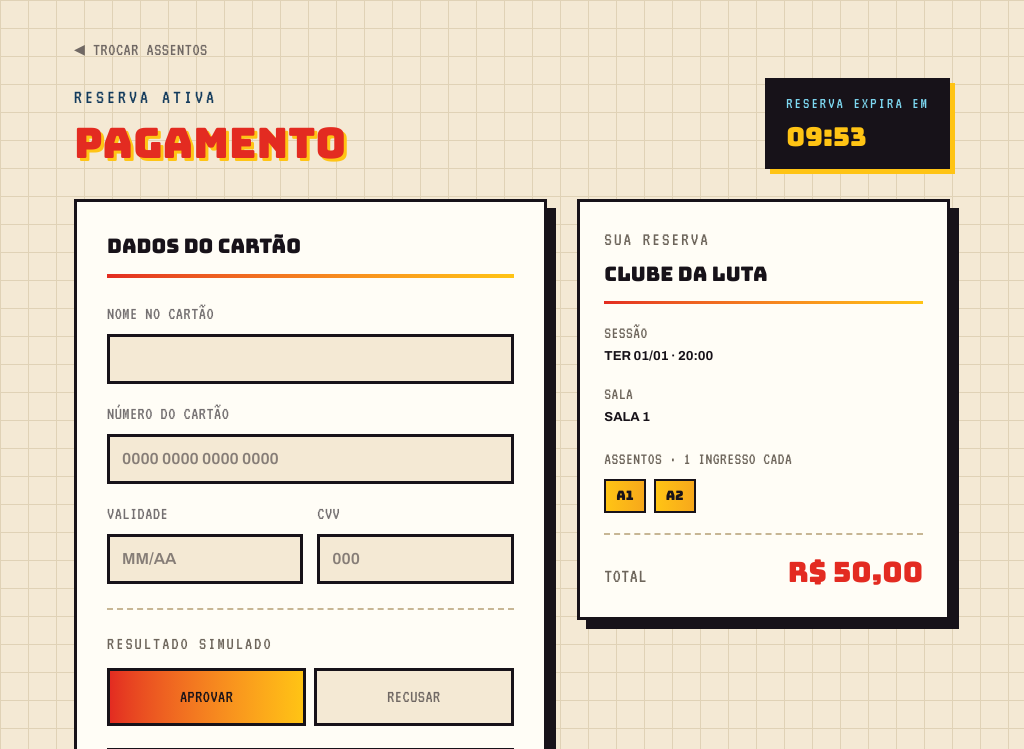
PagamentoPage › masks the card fields as they are typed, refusing anything that is not a digit
Type "abc4111111111111111999" into the field labelled "NÚMERO DO CARTÃO".
click(310, 459); type("abc4111111111111111999")  # box [107, 434, 514, 484]
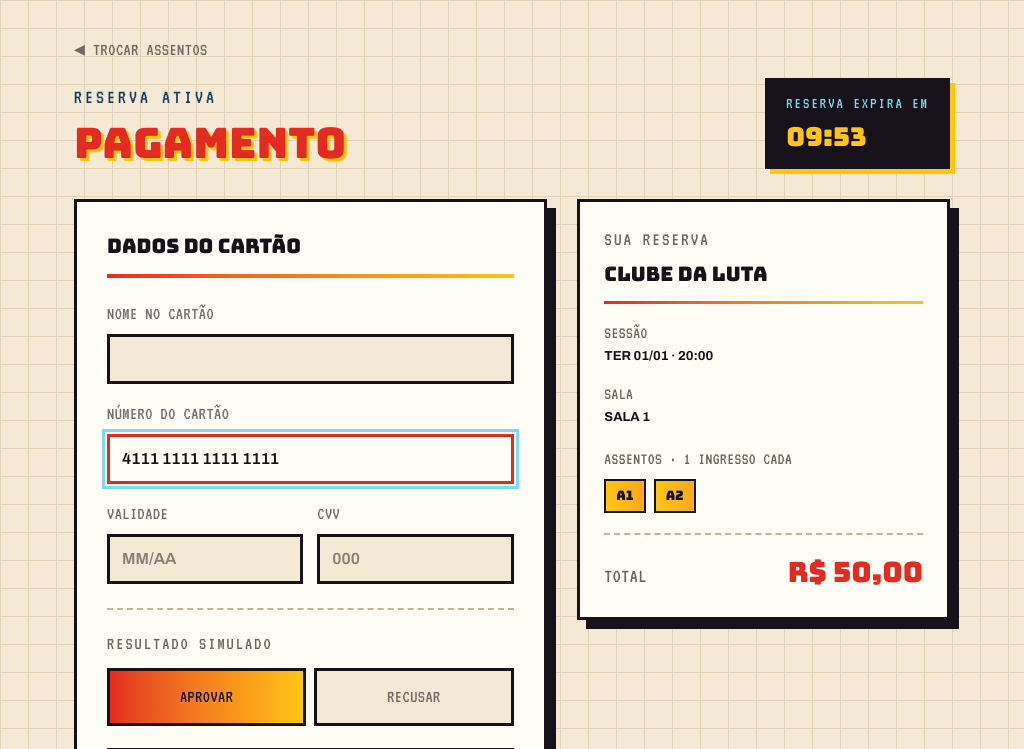
Type "12x30" into the field labelled "VALIDADE".
click(205, 559); type("12x30")  # box [107, 534, 303, 584]
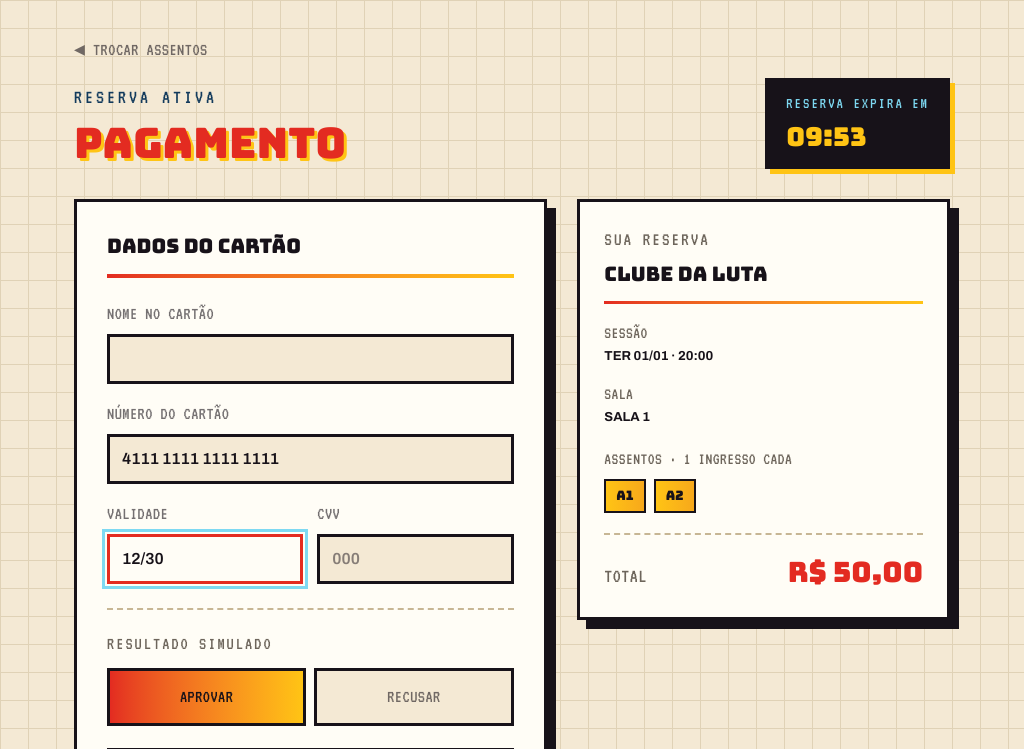
Type "1a2b3c4d5" into the field labelled "CVV".
click(415, 559); type("1a2b3c4d5")  # box [317, 534, 514, 584]
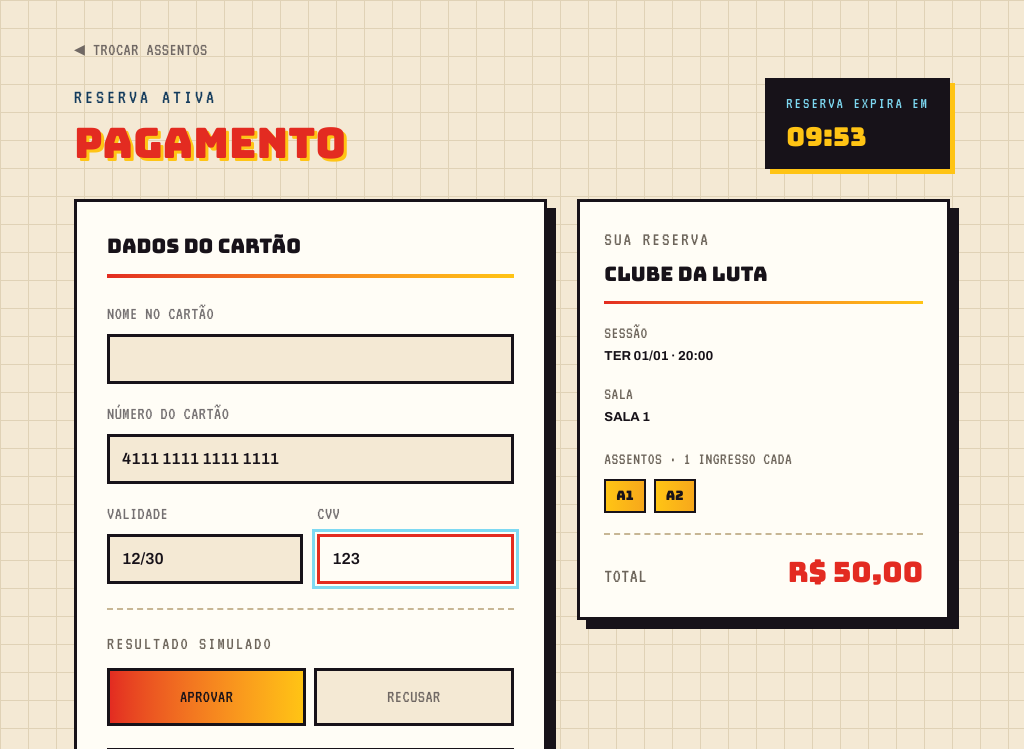
Result: the field labelled "NÚMERO DO CARTÃO" holds "4111 1111 1111 1111" at [107, 434, 514, 484]
Result: the field labelled "VALIDADE" holds "12/30" at [107, 534, 303, 584]
Result: the field labelled "CVV" holds "123" at [317, 534, 514, 584]
